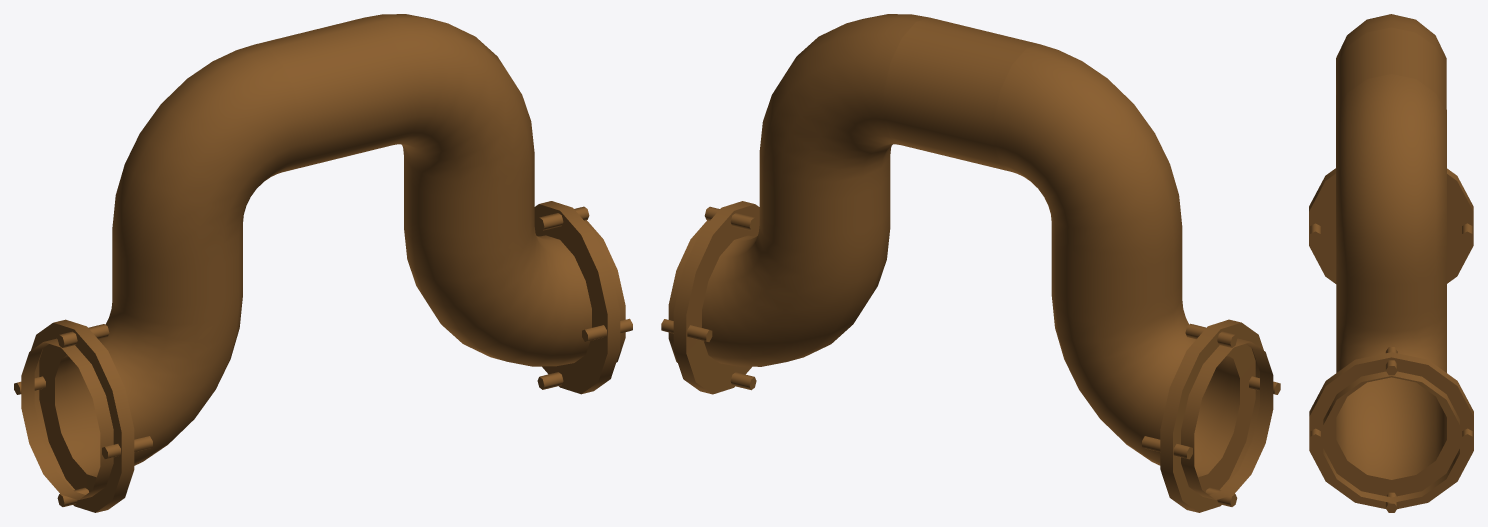
The model's file is ULY_PROP_tuyau_petit_pont.fbx.
The picture shows the model from 3 angles, left to right: view 1: azimuth 30°, elevation 25°; view 2: azimuth 150°, elevation 25°; view 3: azimuth 270°, elevation 25°; orthographic projection. The views are drawn at different scales.
Parts seen in each view (by area): view 1: ULY_PROP_tuyau_petit_pont; view 2: ULY_PROP_tuyau_petit_pont; view 3: ULY_PROP_tuyau_petit_pont.
Boxes of the visible parts, box(x1,y1,x2,y2) form: ULY_PROP_tuyau_petit_pont: box(14, 14, 632, 512); ULY_PROP_tuyau_petit_pont: box(661, 14, 1280, 512); ULY_PROP_tuyau_petit_pont: box(1309, 14, 1473, 512).
Size of the model in its own units: 92.67 by 69.08 by 29.13.
